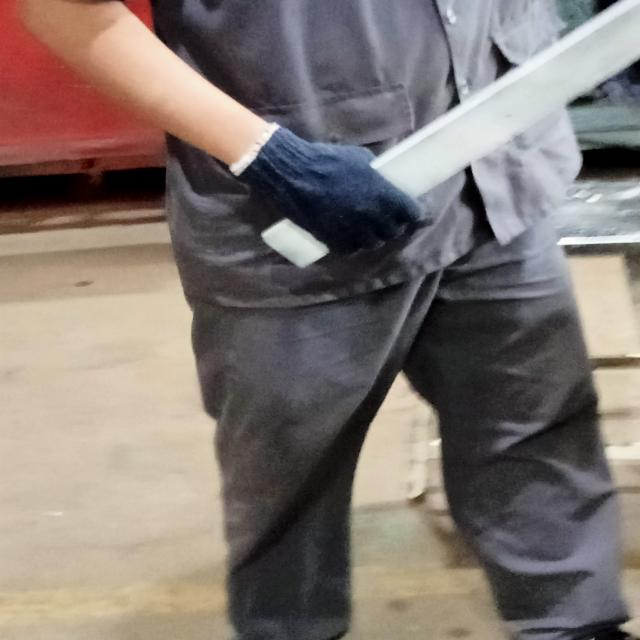Gloves-Detection: (250, 126, 431, 246)
